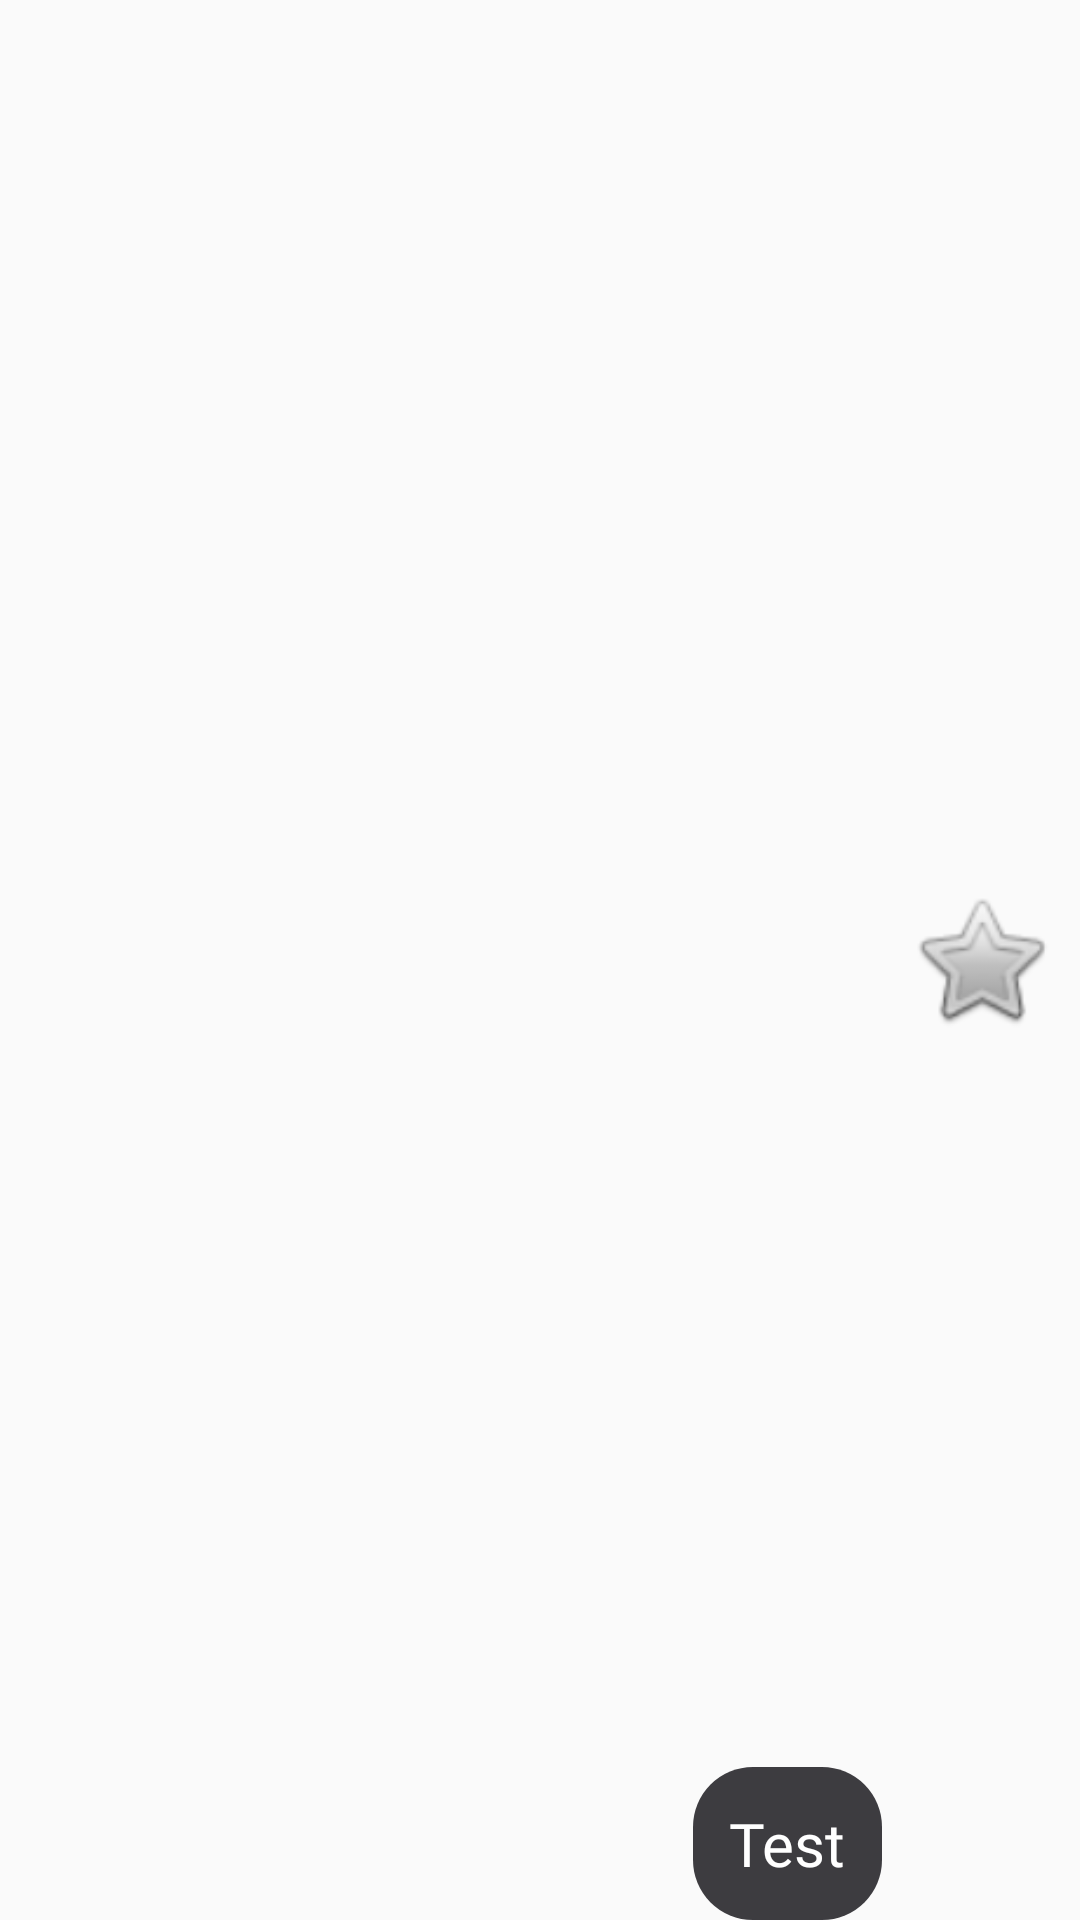

Point at icon controls on the screen. Image size 1080px x 1920px, points as [x,y].
star off: [982,961]
